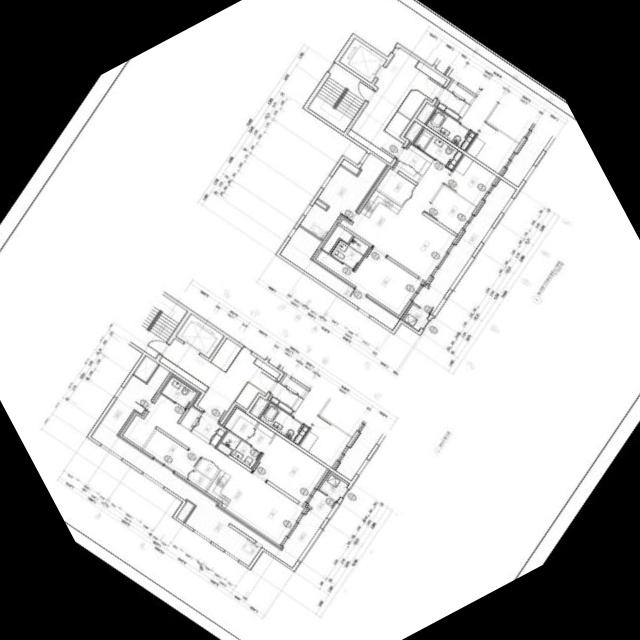background: (0, 0, 640, 640)
space_balconi: (90, 364, 336, 567), (412, 178, 515, 313), (279, 225, 398, 329), (299, 152, 386, 239)
space_bedroom: (315, 247, 421, 314), (252, 433, 326, 503), (143, 429, 199, 478), (444, 154, 496, 205), (425, 184, 475, 233)
space_dressroom: (223, 406, 257, 439), (246, 422, 274, 451), (188, 469, 210, 489)
space_elevator_hall: (339, 37, 442, 157), (162, 312, 276, 420)
space_front: (394, 143, 433, 182), (189, 411, 226, 446)
space_kitchen: (339, 189, 401, 245), (205, 469, 241, 507)
space_living_room: (121, 393, 304, 544), (374, 159, 455, 280)
space_multipurpose_space: (376, 167, 415, 204)
space_other: (158, 355, 207, 391), (347, 128, 393, 162), (210, 337, 241, 371), (397, 89, 432, 118), (322, 224, 352, 252), (234, 381, 265, 408), (384, 110, 410, 142), (415, 60, 446, 84), (132, 354, 158, 381), (179, 405, 201, 429), (253, 357, 279, 377), (195, 457, 218, 478), (176, 500, 193, 521), (405, 121, 422, 140), (340, 158, 359, 173), (216, 441, 231, 454), (315, 198, 327, 208)
space_outdoor_room: (319, 472, 347, 500), (401, 303, 428, 330)
space_staircase: (129, 293, 186, 357)
space_toilet: (413, 127, 462, 168), (220, 430, 261, 468), (330, 236, 368, 268), (161, 375, 196, 408)
